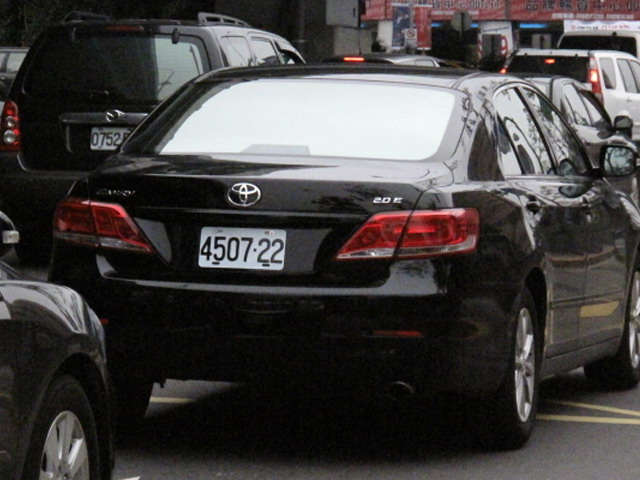plate: (198, 222, 288, 276), (89, 123, 126, 152)
